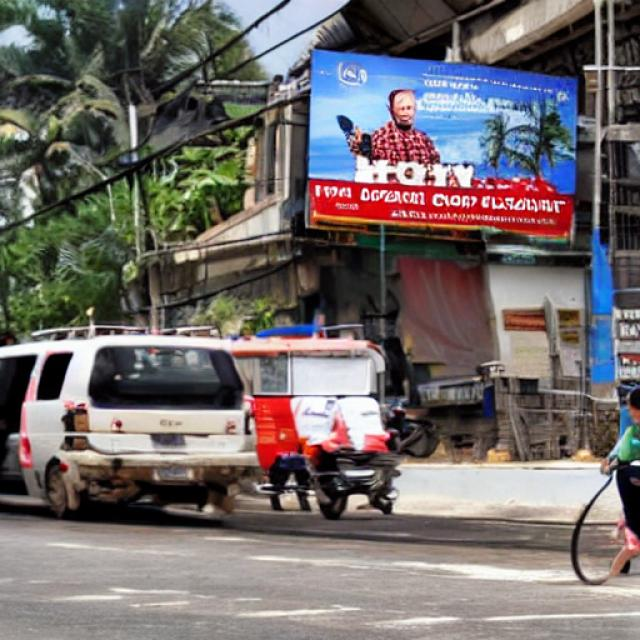Billboard: (301, 40, 581, 250)
